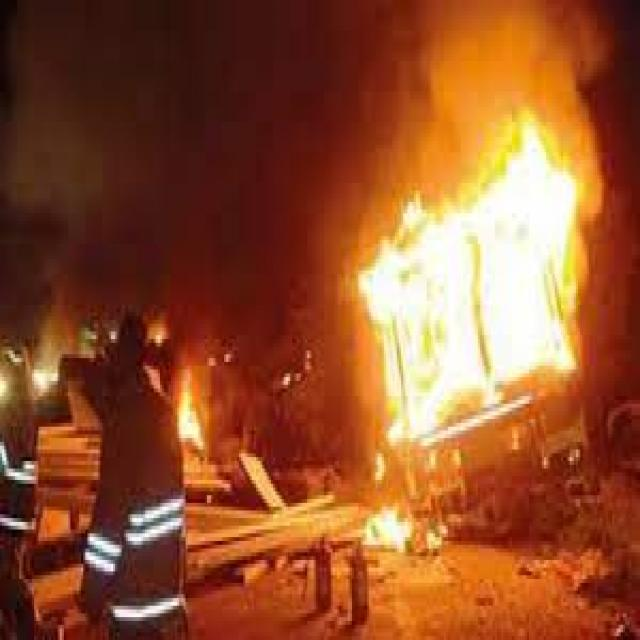fire: (350, 122, 591, 446), (175, 374, 209, 454), (363, 514, 416, 552)
smoke: (354, 4, 606, 221)
